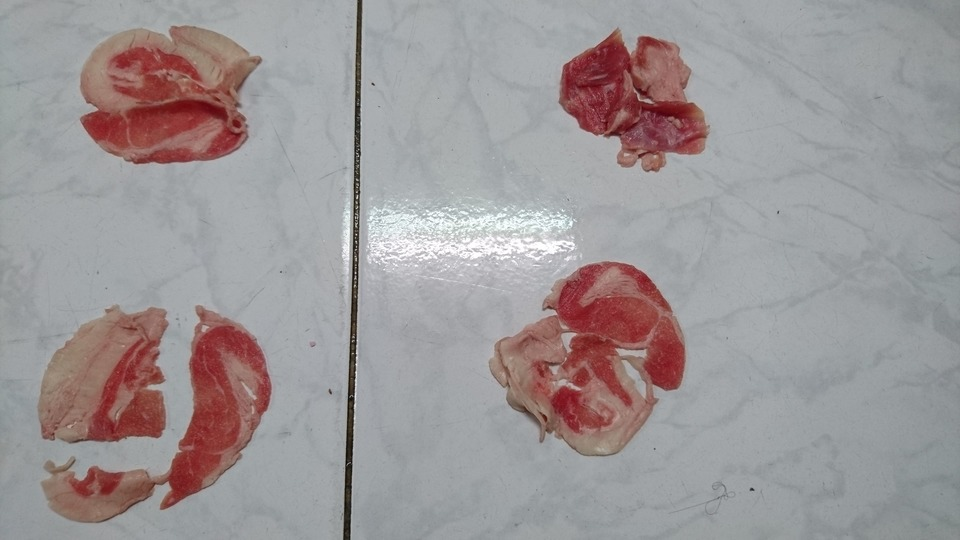restructured meat: (25, 296, 272, 522), (487, 239, 684, 465), (80, 24, 253, 166), (555, 23, 712, 169)
